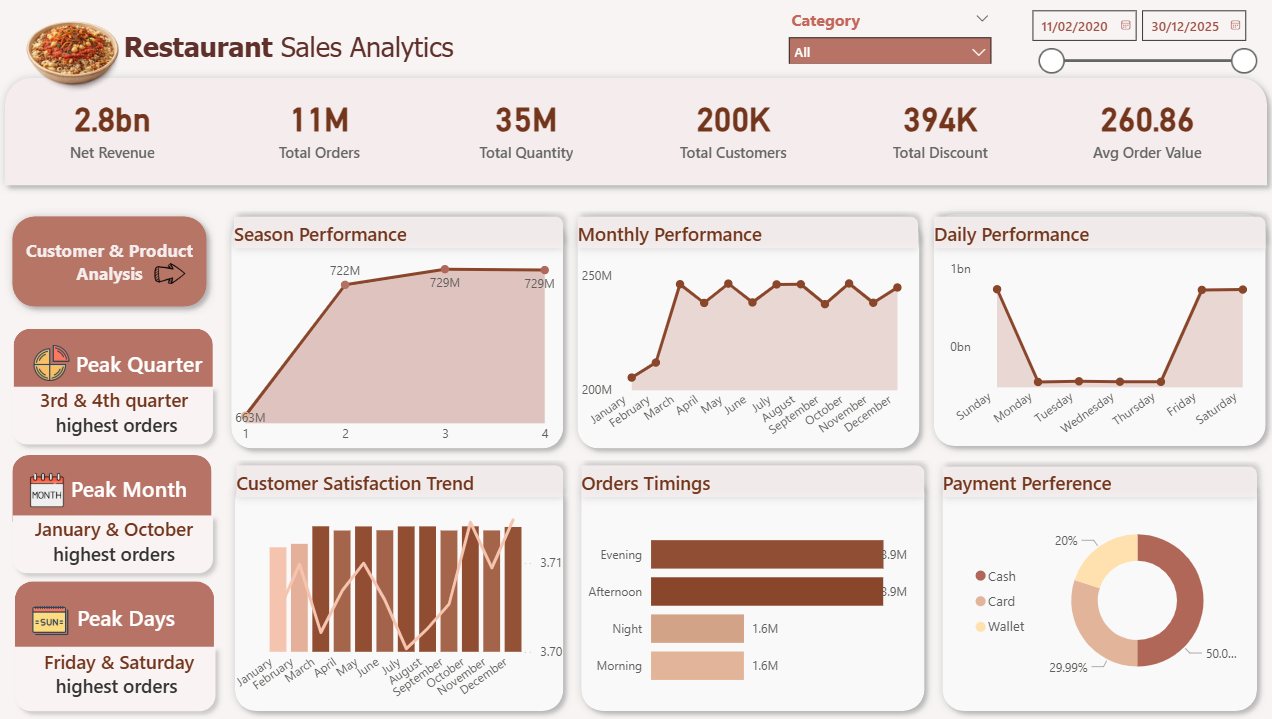

The page's visual inventory and layout, read from the dashboard file:
{"tool":"powerbi","page":{"name":"Home","canvas":[1280,720],"ordinal":0},"visuals":[{"type":"shape","box":[0,68.6,1280,125.7],"z":0},{"type":"shape","box":[16.9,328.8,199.6,66.8],"z":0,"group":"g2"},{"type":"shape","box":[15.6,455,199.6,66.8],"z":0,"group":"g3"},{"type":"shape","box":[18.1,581.2,199.6,72.9],"z":0,"group":"g4"},{"type":"textbox","box":[103.8,26.2,377.5,52.5],"z":1000},{"type":"image","box":[16.9,344.9,76,35.7],"z":1000,"group":"g2"},{"type":"image","box":[12.3,472.5,76.2,35],"z":1000,"group":"g3"},{"type":"image","box":[18.5,602.1,71.2,36.2],"z":1000,"group":"g4"},{"type":"textbox","box":[74.6,344.1,146.2,43.8],"z":2000,"group":"g2"},{"type":"shape","box":[937.5,466.2,332.5,253.8],"z":2000},{"type":"textbox","box":[69.7,468.7,152.9,44.3],"z":2000,"group":"g3"},{"type":"textbox","box":[75.7,597.1,134.4,48.6],"z":2000,"group":"g4"},{"type":"shape","box":[928.8,205,350,250],"z":3000},{"type":"shape","box":[226.2,207.5,350,250],"z":4000},{"type":"shape","box":[230,470,346.2,250],"z":5000},{"type":"shape","title":"Sales Performance","box":[572.5,207.5,360,250],"z":6000},{"type":"lineChart","title":"Revenue Per Branch","fields":{"Category":["restaurant_final.quarter"],"Y":["Table_measures.Total Revenue"]},"box":[231.2,251.2,332.5,201.2],"z":7000},{"type":"shape","title":"Sales Performance","box":[572.5,207.5,358.8,50],"z":8000},{"type":"shape","box":[576.2,463.8,361.2,256.2],"z":8500},{"type":"barChart","title":"Orders Per Time","fields":{"Y":["Table_measures.Total Orders"],"Category":["restaurant_final.time_of_day"]},"box":[581.2,512.5,335,188.8],"z":9000},{"type":"lineChart","title":" Revenue Per Month","fields":{"Y":["Table_measures.Total Revenue"],"Category":["restaurant_final.month_name"]},"box":[576.2,238.8,345,218.8],"z":10000},{"type":"donutChart","title":"Payment Method","fields":{"Y":["Table_measures.Total Orders"],"Category":["restaurant_final.payment_method"]},"box":[973.8,491.2,276.2,218.8],"z":11000},{"type":"lineChart","title":" Revenue Per Day","fields":{"Y":["Table_measures.Total Revenue"],"Category":["restaurant_final.day_name"]},"box":[937.5,255,332.5,197.5],"z":12000},{"type":"slicer","title":"Category","fields":{"Values":["restaurant_final.category"]},"box":[782.9,4.3,222.9,60],"z":13000},{"type":"slicer","fields":{"Values":["restaurant_final.order_date"]},"box":[1024.3,0,245.7,75.7],"z":14000},{"type":"cardVisual","fields":{"Data":["Table_measures.Net Revenue","Table_measures.Total Orders","Table_measures.Total Quantity","Table_measures.Total Customers","Table_measures.Total Discount","Table_measures.Avg Order Value"]},"box":[11.2,76.2,1248.8,111.2],"z":15000},{"type":"group","id":"g1","title":"Group 3","box":[7.5,328.8,218.8,125.3],"z":16000},{"type":"group","id":"g2","title":"Group 1","box":[16.9,328.8,203.9,66.8],"z":16000,"group":"g1"},{"type":"group","id":"g3","title":"Group 1","box":[12.3,455,210.2,66.8],"z":16000,"group":"g9"},{"type":"group","id":"g4","title":"Group 1","box":[18.1,581.2,199.6,72.9],"z":16000,"group":"g5"},{"type":"shape","box":[7.5,377.9,218.6,76],"z":16500,"group":"g6"},{"type":"shape","box":[7.5,506.1,218.6,76],"z":16500,"group":"g7"},{"type":"shape","box":[10,636.9,218.6,82.9],"z":16500,"group":"g8"},{"type":"textbox","box":[18.4,383.1,198.2,65.5],"z":17000,"group":"g6"},{"type":"textbox","box":[18.4,511.3,198.2,65.5],"z":17000,"group":"g7"},{"type":"group","id":"g5","title":"Group 3","box":[10,581.2,218.6,138.6],"z":17000},{"type":"textbox","box":[20.9,642.6,198.2,71.4],"z":17000,"group":"g8"},{"type":"group","id":"g6","title":"Group 2","box":[7.5,377.9,218.8,76.2],"z":17001,"group":"g1"},{"type":"group","id":"g7","title":"Group 2","box":[7.5,506.1,218.6,76],"z":17001,"group":"g9"},{"type":"group","id":"g8","title":"Group 2","box":[10,636.9,218.6,82.9],"z":17001,"group":"g5"},{"type":"group","id":"g9","title":"Group 3","box":[7.5,455,218.6,127.1],"z":18000},{"type":"shape","title":"Sales Performance","box":[928.8,207.5,350,50],"z":19000},{"type":"shape","title":"Sales Performance","box":[576.2,456.5,361.2,50],"z":20000},{"type":"shape","title":"Sales Performance","box":[228.8,207.5,347.5,50],"z":21000},{"type":"pageNavigator","box":[7.5,207.5,212.5,108.8],"z":22000},{"type":"shape","title":"Sales Performance","box":[937.5,457.5,332.5,48.8],"z":23000},{"type":"image","box":[0,0,152.5,103.8],"z":24000},{"type":"image","box":[146.2,251.2,55,45],"z":26000},{"type":"lineClusteredColumnComboChart","fields":{"Y":["Table_measures.Total Orders"],"Y2":["Table_measures.Avg Rating"],"Category":["restaurant_final.month_name"]},"box":[231.2,505,341.2,215],"z":27000},{"type":"shape","title":"Sales Performance","box":[231.2,456.5,345,50],"z":28000}]}

Visuals, with their boxes in screenshot pixels (x1, y1, x2, y2), scaled from the page's 1280x720 canvas onto the 1272x719 screenshot:
shape: left=0, top=69, right=1271, bottom=194
shape: left=17, top=328, right=215, bottom=395
shape: left=16, top=454, right=214, bottom=521
shape: left=18, top=580, right=216, bottom=653
textbox: left=103, top=26, right=478, bottom=79
image: left=17, top=344, right=92, bottom=380
image: left=12, top=472, right=88, bottom=507
image: left=18, top=601, right=89, bottom=637
textbox: left=74, top=344, right=219, bottom=387
shape: left=932, top=466, right=1262, bottom=718
textbox: left=69, top=468, right=221, bottom=512
textbox: left=75, top=596, right=209, bottom=645
shape: left=923, top=205, right=1271, bottom=454
shape: left=225, top=207, right=573, bottom=457
shape: left=229, top=469, right=573, bottom=718
"Sales Performance" shape: left=569, top=207, right=927, bottom=457
"Revenue Per Branch" lineChart: left=230, top=251, right=560, bottom=452
"Sales Performance" shape: left=569, top=207, right=925, bottom=257
shape: left=573, top=463, right=932, bottom=718
"Orders Per Time" barChart: left=578, top=512, right=910, bottom=700
" Revenue Per Month" lineChart: left=573, top=238, right=915, bottom=457
"Payment Method" donutChart: left=968, top=491, right=1242, bottom=709
" Revenue Per Day" lineChart: left=932, top=255, right=1262, bottom=452
"Category" slicer: left=778, top=4, right=1000, bottom=64
slicer - restaurant_final.order_date: left=1018, top=0, right=1262, bottom=76
cardVisual - Table_measures.Net Revenue x Table_measures.Total Orders: left=11, top=76, right=1252, bottom=187
"Group 3" group: left=7, top=328, right=225, bottom=453
"Group 1" group: left=17, top=328, right=219, bottom=395
"Group 1" group: left=12, top=454, right=221, bottom=521
"Group 1" group: left=18, top=580, right=216, bottom=653
shape: left=7, top=377, right=225, bottom=453
shape: left=7, top=505, right=225, bottom=581
shape: left=10, top=636, right=227, bottom=718
textbox: left=18, top=383, right=215, bottom=448
textbox: left=18, top=511, right=215, bottom=576
"Group 3" group: left=10, top=580, right=227, bottom=718
textbox: left=21, top=642, right=218, bottom=713
"Group 2" group: left=7, top=377, right=225, bottom=453
"Group 2" group: left=7, top=505, right=225, bottom=581
"Group 2" group: left=10, top=636, right=227, bottom=718
"Group 3" group: left=7, top=454, right=225, bottom=581
"Sales Performance" shape: left=923, top=207, right=1271, bottom=257
"Sales Performance" shape: left=573, top=456, right=932, bottom=506
"Sales Performance" shape: left=227, top=207, right=573, bottom=257
pageNavigator: left=7, top=207, right=219, bottom=316
"Sales Performance" shape: left=932, top=457, right=1262, bottom=506
image: left=0, top=0, right=152, bottom=104
image: left=145, top=251, right=200, bottom=296
lineClusteredColumnComboChart - Table_measures.Total Orders x Table_measures.Avg Rating: left=230, top=504, right=569, bottom=718
"Sales Performance" shape: left=230, top=456, right=573, bottom=506
